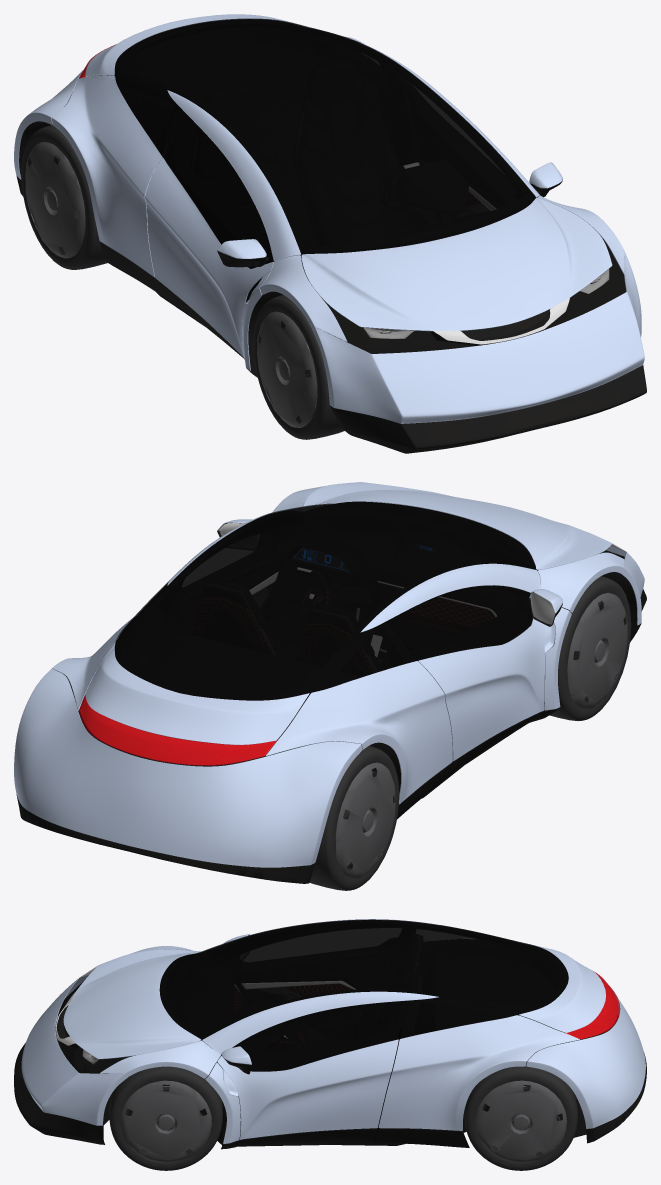
The model's file is concept-coupe.glb.
3 renders of one model, top to bottom at view 1: azimuth 30°, elevation 25°; view 2: azimuth 150°, elevation 25°; view 3: azimuth 270°, elevation 25°, orthographic. The views are drawn at different scales.
Visible parts, largest first — view 1: Body, wheel-front-right-mesh, wheel-rear-right-mesh; view 2: Body, wheel-rear-right-mesh, wheel-front-right-mesh; view 3: Body, wheel-front-left-mesh, wheel-rear-left-mesh.
Part boxes in pixels (<box>): Body: <box>14,14,646,453</box>; wheel-front-right-mesh: <box>253,295,344,439</box>; wheel-rear-right-mesh: <box>21,124,107,269</box>; Body: <box>14,482,646,883</box>; wheel-rear-right-mesh: <box>310,746,399,890</box>; wheel-front-right-mesh: <box>549,576,631,720</box>; Body: <box>14,919,646,1149</box>; wheel-front-left-mesh: <box>109,1066,222,1170</box>; wheel-rear-left-mesh: <box>464,1066,577,1170</box>.
Size of the model in its own units: 1.32 by 0.8105 by 2.8.
